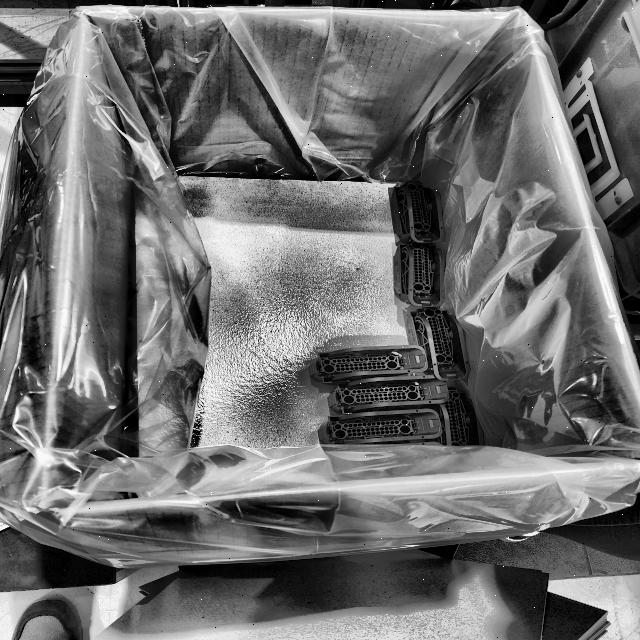P38: (328, 376, 449, 416), (309, 345, 428, 385), (318, 407, 445, 444), (407, 307, 470, 381), (390, 181, 445, 244), (394, 241, 446, 307), (441, 381, 484, 446)
